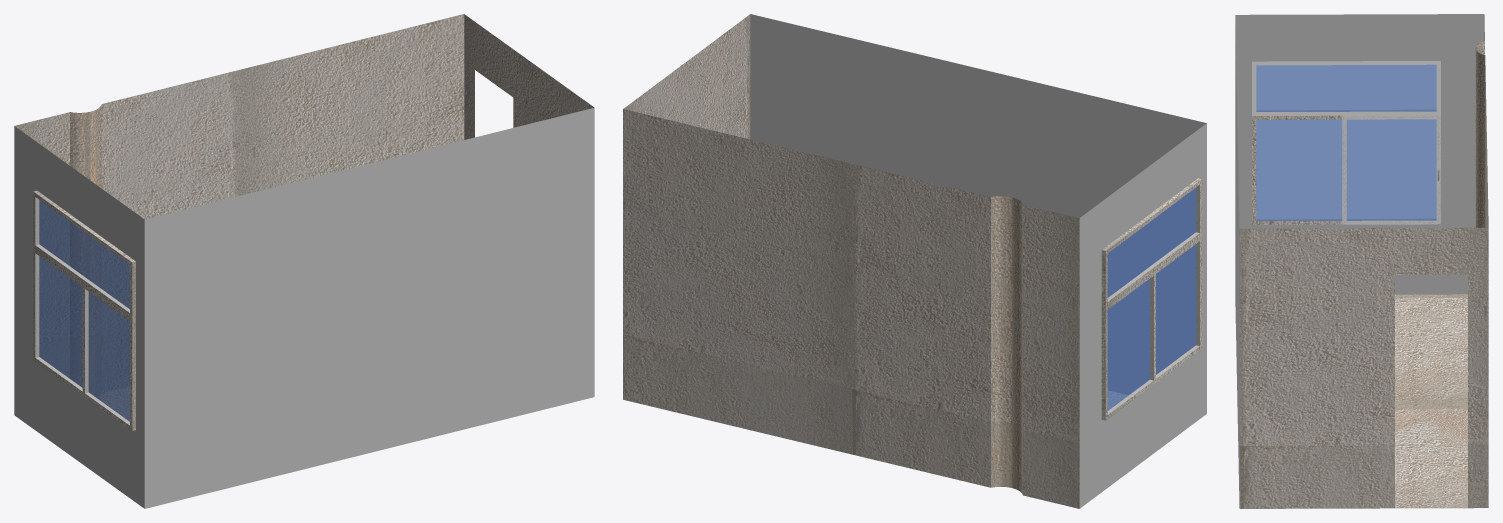
File: DES027.obj
3 views of the same model, side by side, from view 1: azimuth 30°, elevation 25°; view 2: azimuth 150°, elevation 25°; view 3: azimuth 270°, elevation 25° (orthographic). The views are drawn at different scales.
Parts seen in each view (by area): view 1: Mesh7 DES027 Model, Mesh1 ventana1_2_1 DES027 Model; view 2: Mesh7 DES027 Model, Mesh1 ventana1_2_1 DES027 Model; view 3: Mesh7 DES027 Model, Mesh1 ventana1_2_1 DES027 Model.
Boxes of the visible parts, <box> form: Mesh7 DES027 Model: <box>14,14,594,508</box>; Mesh1 ventana1_2_1 DES027 Model: <box>33,190,135,431</box>; Mesh7 DES027 Model: <box>623,14,1206,508</box>; Mesh1 ventana1_2_1 DES027 Model: <box>1101,178,1202,420</box>; Mesh7 DES027 Model: <box>1235,14,1488,508</box>; Mesh1 ventana1_2_1 DES027 Model: <box>1252,61,1440,224</box>.
Size of the model in its own units: 5.95 by 3.6 by 2.95.
